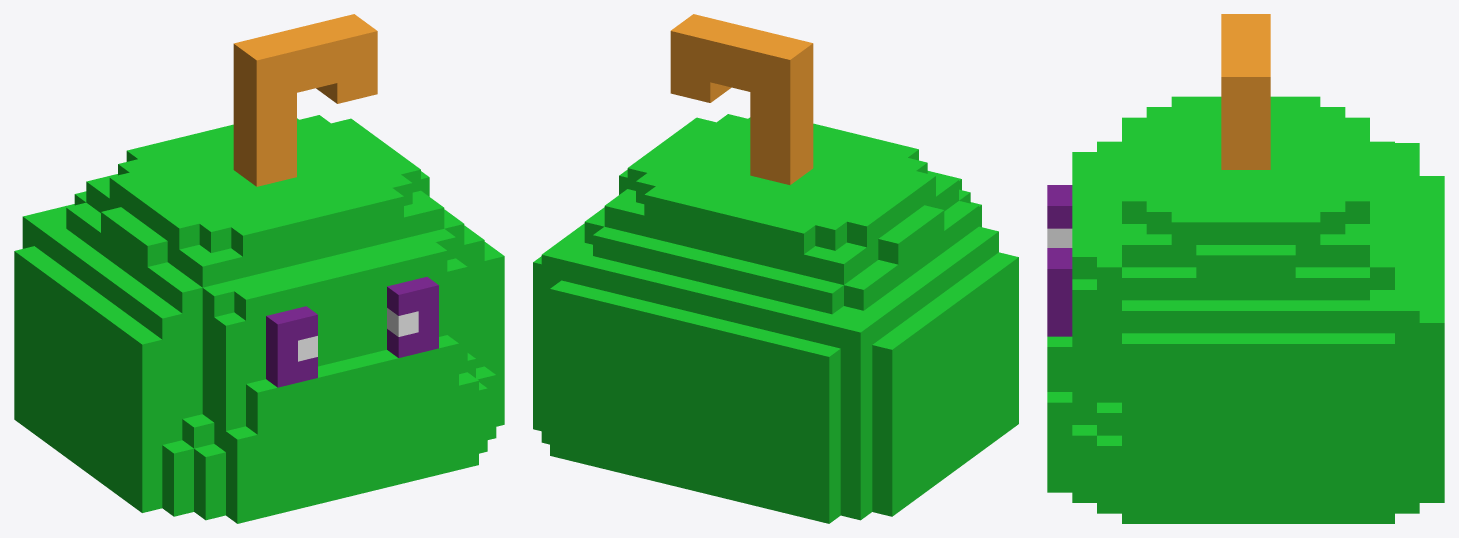
Rendered from Slime.obj.
The picture shows the model from 3 angles, left to right: view 1: azimuth 30°, elevation 25°; view 2: azimuth 150°, elevation 25°; view 3: azimuth 270°, elevation 25°; orthographic projection. The views are drawn at different scales.
Size of the model in its own units: 1.8 by 1.8 by 1.6.
1 material, 1 textured.
